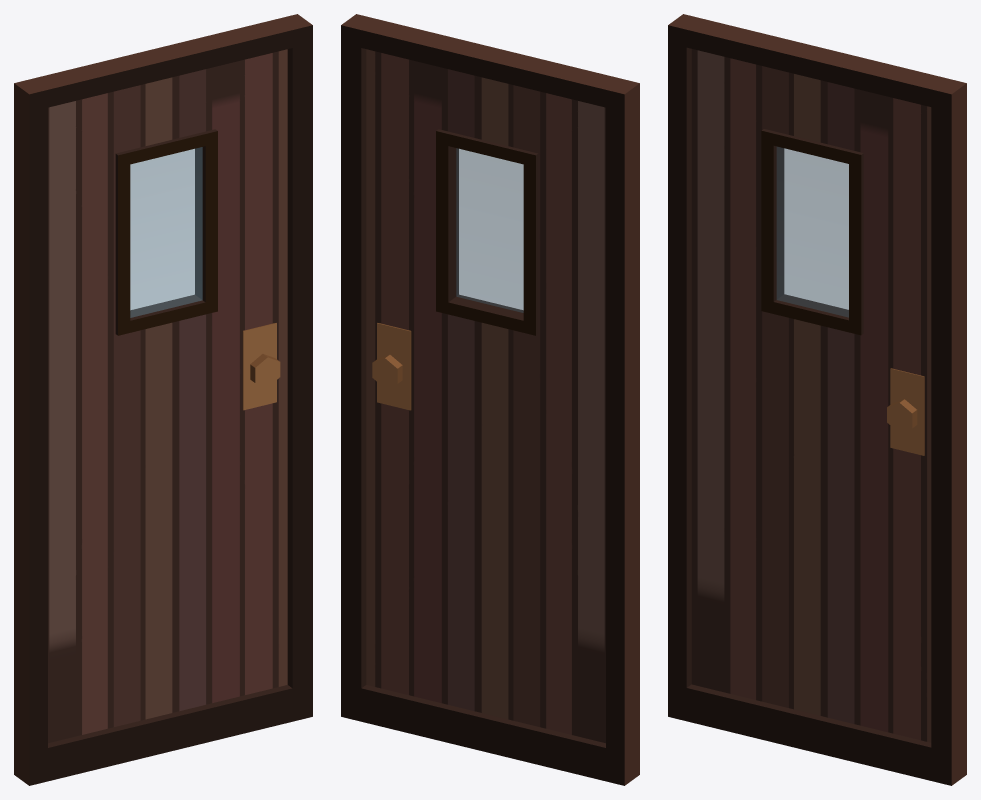
Rendered from Door 6.glb.
3 views of the same model, side by side, from view 1: azimuth 30°, elevation 25°; view 2: azimuth 150°, elevation 25°; view 3: azimuth 330°, elevation 25° (orthographic).
Parts seen in each view (by area): view 1: Door 6A; view 2: Door 6A; view 3: Door 6A.
Part boxes in pixels (bbox=[...]): Door 6A: bbox=[14, 14, 312, 785]; Door 6A: bbox=[341, 14, 639, 785]; Door 6A: bbox=[668, 14, 966, 785].
Size of what is drawn, in the model's own units: 0.9761 by 2.27 by 0.1391.
Materials: 3 (3 with a texture image).
